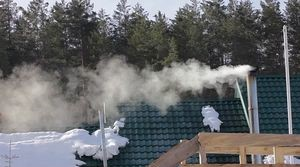工厂排烟: (0, 53, 259, 139)
